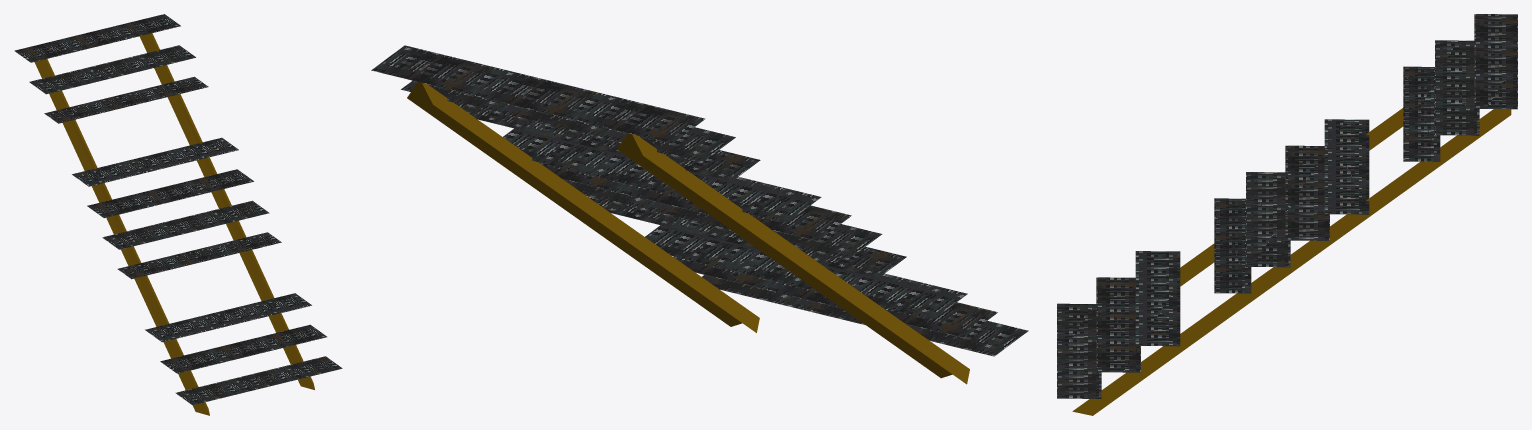
Rendered from TreppeBretter_1883.glb.
3 views of the same model, side by side, from view 1: azimuth 30°, elevation 25°; view 2: azimuth 150°, elevation 25°; view 3: azimuth 270°, elevation 25° (orthographic). The views are drawn at different scales.
Parts seen in each view (by area): view 1: pPlaneShape16, pPlaneShape17, pPlaneShape18, pCylinderShape2, pCylinderShape1; view 2: pPlaneShape16, pPlaneShape17, pPlaneShape18, pCylinderShape2, pCylinderShape1; view 3: pPlaneShape16, pPlaneShape17, pPlaneShape18, pCylinderShape1, pCylinderShape2.
Boxes of the visible parts, bbox=[...] form: pPlaneShape16: bbox=[117, 232, 342, 405]; pPlaneShape17: bbox=[44, 76, 269, 249]; pPlaneShape18: bbox=[14, 14, 195, 94]; pCylinderShape2: bbox=[34, 59, 209, 415]; pCylinderShape1: bbox=[139, 33, 314, 389]; pPlaneShape16: bbox=[588, 196, 1028, 356]; pPlaneShape17: bbox=[454, 102, 882, 259]; pPlaneShape18: bbox=[371, 45, 735, 162]; pCylinderShape2: bbox=[617, 133, 969, 384]; pCylinderShape1: bbox=[407, 82, 759, 332]; pPlaneShape16: bbox=[1057, 198, 1251, 398]; pPlaneShape17: bbox=[1246, 66, 1440, 267]; pPlaneShape18: bbox=[1435, 14, 1517, 135]; pCylinderShape1: bbox=[1072, 109, 1511, 415]; pCylinderShape2: bbox=[1180, 108, 1403, 286].
Size of what is drawn, in the model's own units: 0.2501 by 0.3891 by 0.5132.
5 materials, 3 textured.
